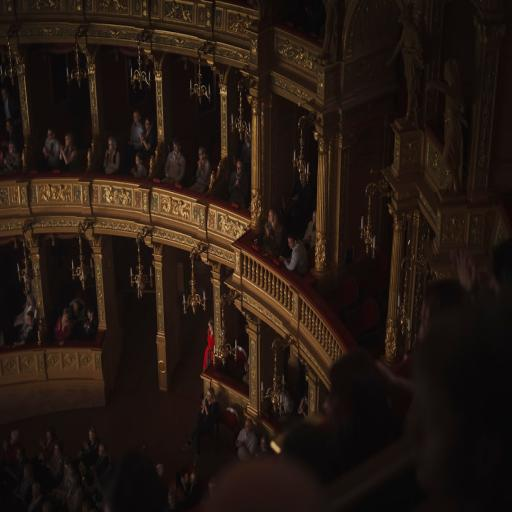face: (417, 301, 430, 341), (260, 438, 268, 452), (244, 421, 252, 434), (134, 111, 140, 124), (288, 237, 295, 248), (2, 89, 8, 101), (89, 430, 95, 442), (268, 210, 274, 222), (190, 472, 196, 484), (300, 173, 306, 185), (47, 130, 54, 140), (73, 302, 79, 313), (174, 144, 180, 155), (6, 121, 12, 132), (199, 151, 205, 162), (237, 162, 242, 175), (99, 444, 104, 456), (109, 141, 115, 151), (46, 431, 52, 440), (9, 144, 15, 153), (27, 316, 33, 325), (145, 120, 150, 130), (312, 211, 316, 223), (63, 313, 68, 322), (65, 136, 70, 145), (55, 445, 59, 455), (136, 156, 140, 165), (207, 392, 211, 401), (209, 323, 213, 332), (88, 311, 92, 320)
